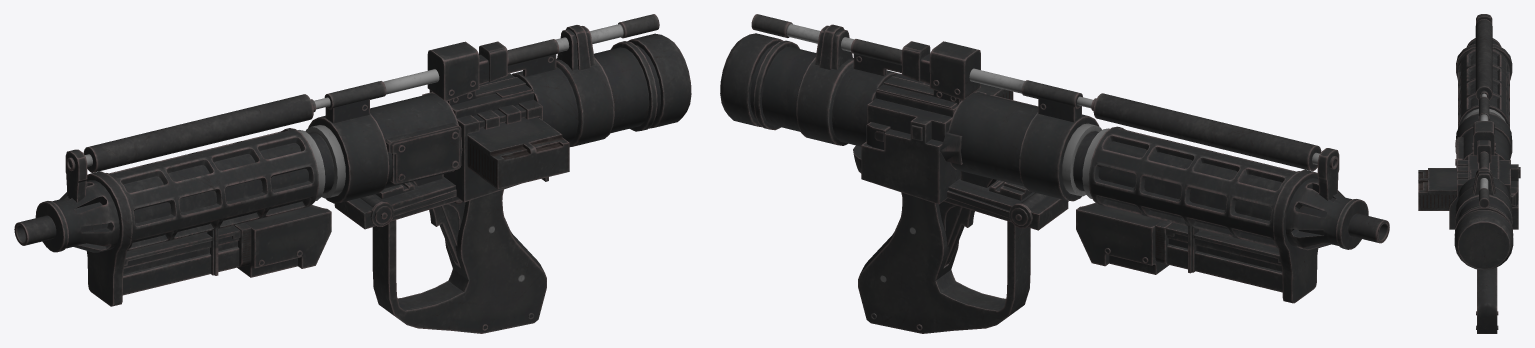
3 views of the same model, side by side, from view 1: azimuth 30°, elevation 25°; view 2: azimuth 150°, elevation 25°; view 3: azimuth 270°, elevation 25° (orthographic). The views are drawn at different scales.
Parts seen in each view (by area): view 1: Object_3, Object_2; view 2: Object_3, Object_2; view 3: Object_3, Object_2.
Part boxes in pixels (x1=…): Object_3: x1=14, y1=14, x2=691, y2=333; Object_2: x1=67, y1=41, x2=562, y2=329; Object_3: x1=720, y1=14, x2=1389, y2=333; Object_2: x1=858, y1=41, x2=1337, y2=329; Object_3: x1=1418, y1=14, x2=1518, y2=333; Object_2: x1=1418, y1=116, x2=1520, y2=329.
Size of the model in its own units: 41.89 by 17.7 by 8.9.
1 material, 1 textured.
